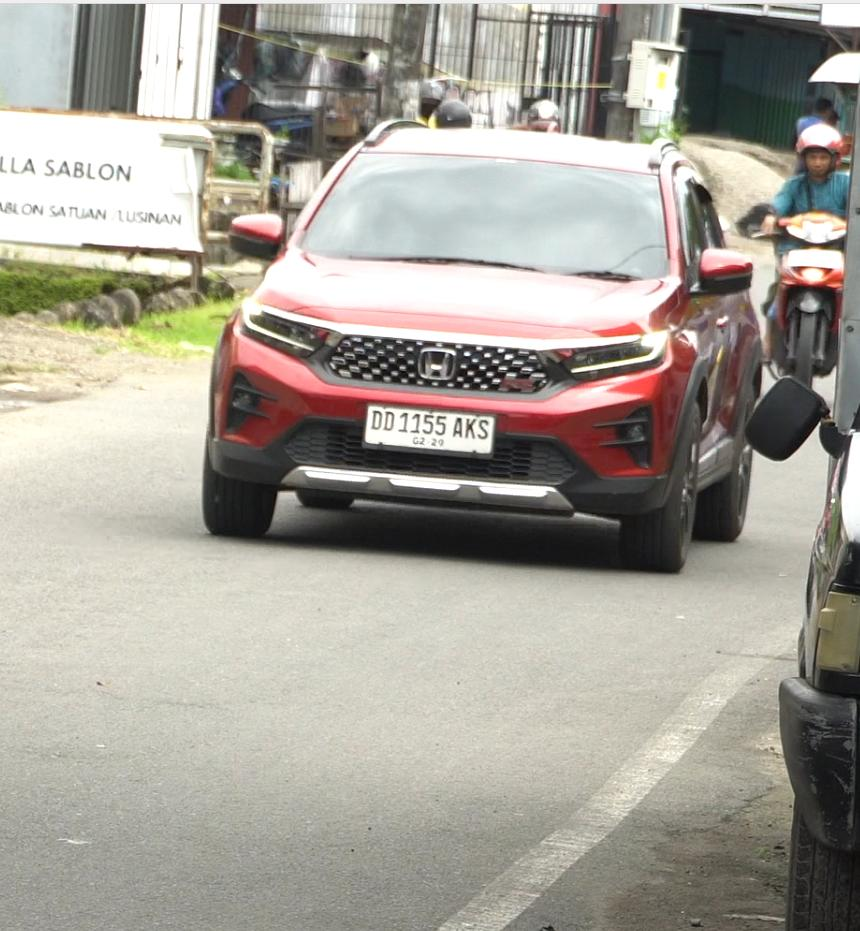number-plate: (364, 399, 498, 457)
